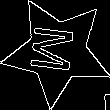M_E: (29, 25, 85, 78)
